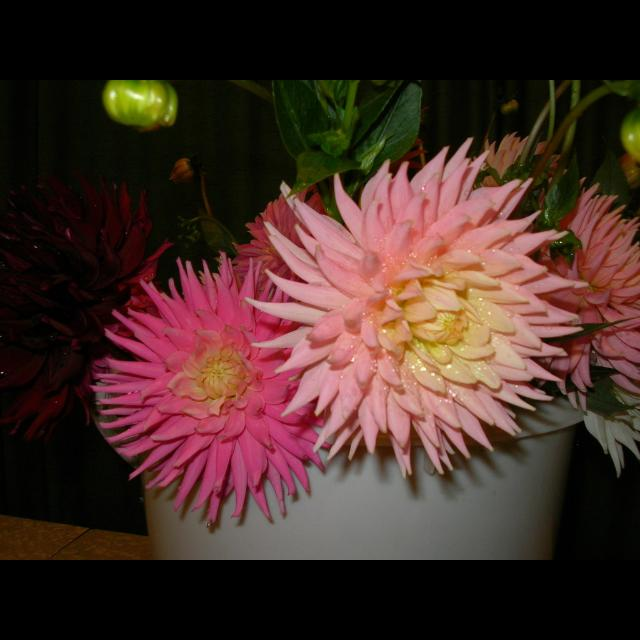Flower: (212, 143, 572, 504), (89, 260, 333, 528), (462, 130, 640, 474), (0, 182, 170, 466), (231, 183, 331, 305)
